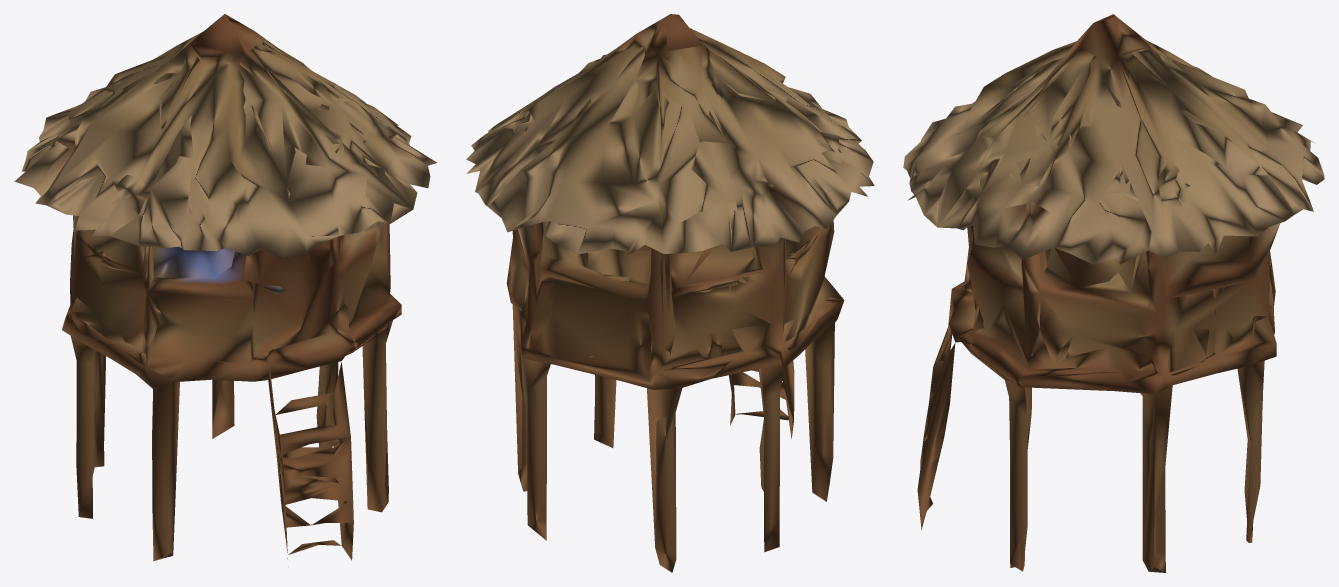
File: gen3d-stilt-hut-lod0.glb
3 views of the same model, side by side, from view 1: azimuth 30°, elevation 25°; view 2: azimuth 150°, elevation 25°; view 3: azimuth 270°, elevation 25° (orthographic). The views are drawn at different scales.
Parts seen in each view (by area): view 1: part_0; view 2: part_0; view 3: part_0.
Part boxes in pixels (x1,y1,x2,y2): part_0: (14,14,437,561); part_0: (466,14,874,572); part_0: (903,14,1324,572).
Size of the model in its own units: 0.7519 by 0.9995 by 0.7609.
